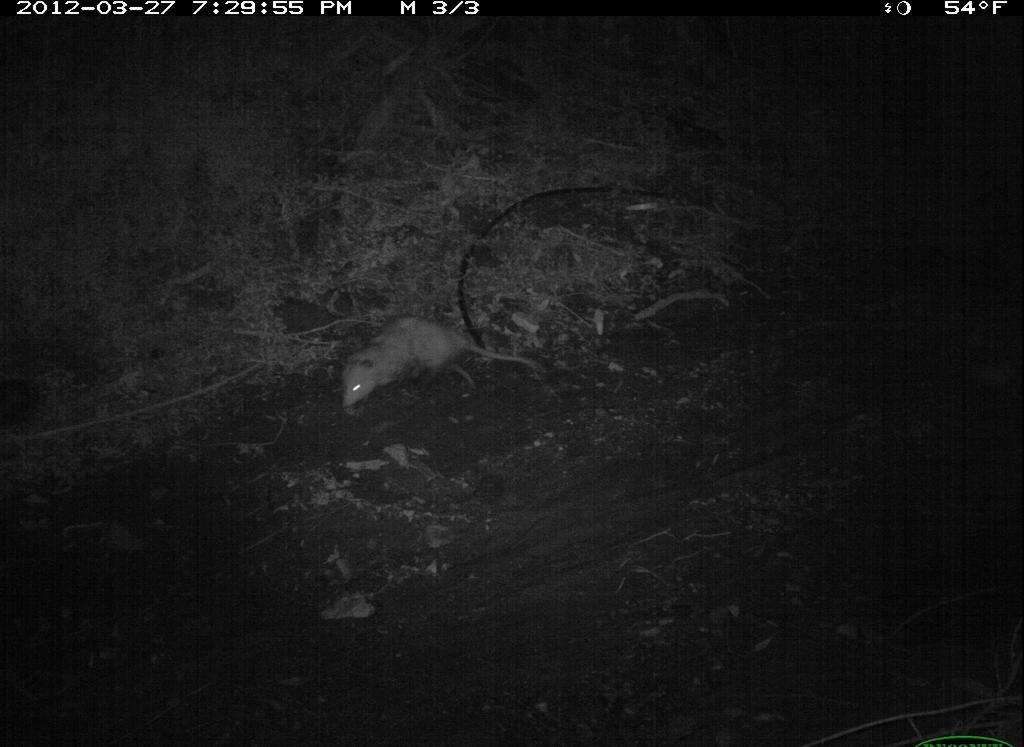opossum: (336, 310, 555, 418)
